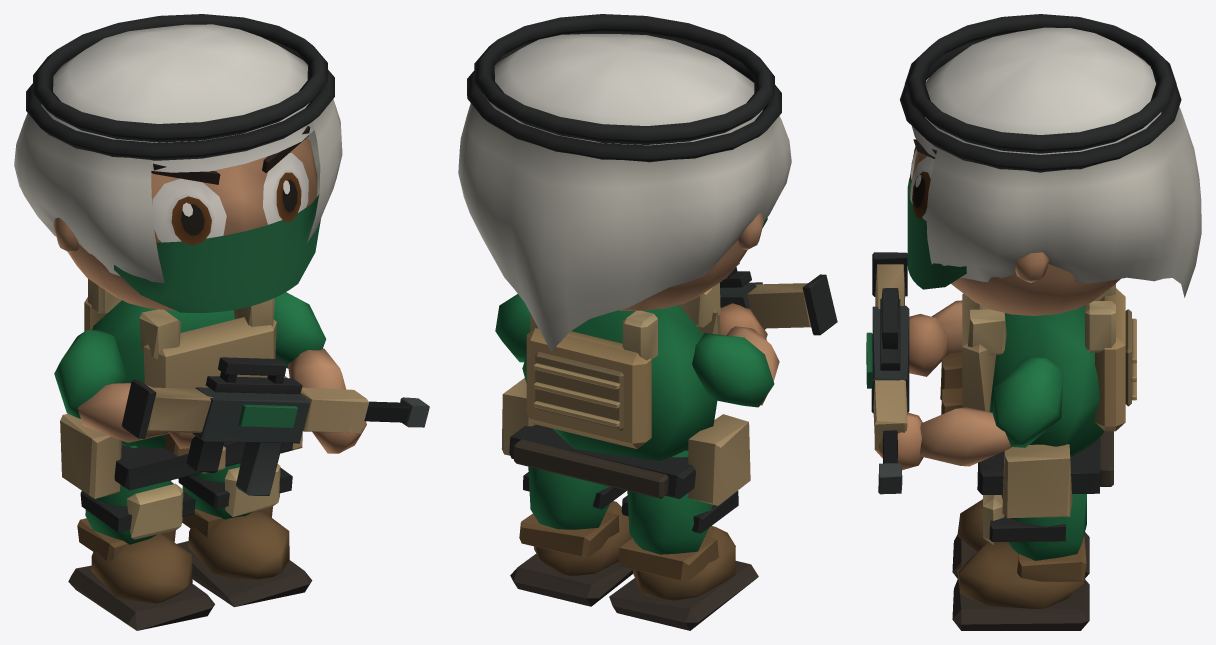
Rendered from recruit-quality-workshop.glb.
3 views of the same model, side by side, from view 1: azimuth 30°, elevation 25°; view 2: azimuth 150°, elevation 25°; view 3: azimuth 270°, elevation 25° (orthographic).
Parts seen in each view (by area): view 1: j1_body_ghutra_crown, j1_body_ghutra_folded_drape, j1_body_face_covering, j1_body_agal_upper, j1_body_agal_lower, j1_body_face, j0_body_plate_carrier, j3_body_boot, j2_body_boot, j5_rifle_receiver, j4_body_left_sleeve, j0_body_hip_pouch (+34 smaller); view 2: j1_body_ghutra_folded_drape, j1_body_ghutra_crown, j1_body_agal_upper, j0_body_uniform_torso, j0_body_rear_vest, j1_body_agal_lower, j4_body_left_sleeve, j0_body_hip_pouch, j2_body_trousers, j0_body_rear_belt, j2_body_boot_sole, j3_body_trousers (+23 smaller); view 3: j1_body_ghutra_folded_drape, j1_body_ghutra_crown, j1_body_agal_upper, j0_body_uniform_torso, j1_body_agal_lower, j0_body_hip_pouch.001, j5_body_right_sleeve, j1_body_face, j3_body_boot, j3_body_boot_sole, j5_body_right_forearm, j0_body_rear_vest (+27 smaller).
Boxes of the visible parts, x1,y1,x2,y2 form: j1_body_ghutra_crown: [41, 24, 314, 172]; j1_body_ghutra_folded_drape: [14, 99, 342, 282]; j1_body_face_covering: [114, 194, 320, 312]; j1_body_agal_upper: [33, 14, 327, 142]; j1_body_agal_lower: [26, 43, 334, 160]; j1_body_face: [68, 137, 317, 310]; j0_body_plate_carrier: [143, 317, 276, 388]; j3_body_boot: [188, 512, 289, 579]; j2_body_boot: [91, 534, 192, 603]; j5_rifle_receiver: [192, 387, 309, 443]; j4_body_left_sleeve: [54, 330, 127, 418]; j0_body_hip_pouch: [60, 414, 121, 498]; j1_body_ghutra_folded_drape: [458, 103, 791, 351]; j1_body_ghutra_crown: [483, 34, 762, 145]; j1_body_agal_upper: [474, 14, 774, 144]; j0_body_uniform_torso: [522, 305, 717, 460]; j0_body_rear_vest: [526, 328, 651, 448]; j1_body_agal_lower: [467, 33, 781, 162]; j4_body_left_sleeve: [692, 333, 774, 407]; j0_body_hip_pouch: [688, 414, 750, 505]; j2_body_trousers: [627, 450, 712, 554]; j0_body_rear_belt: [514, 439, 668, 498]; j2_body_boot_sole: [609, 561, 758, 630]; j3_body_trousers: [528, 428, 609, 529]; j1_body_ghutra_folded_drape: [926, 107, 1201, 297]; j1_body_ghutra_crown: [912, 27, 1161, 157]; j1_body_agal_upper: [905, 14, 1176, 153]; j0_body_uniform_torso: [990, 305, 1104, 457]; j1_body_agal_lower: [900, 39, 1181, 172]; j0_body_hip_pouch.001: [1002, 444, 1072, 518]; j5_body_right_sleeve: [992, 356, 1063, 447]; j1_body_face: [909, 151, 1120, 315]; j3_body_boot: [957, 542, 1083, 608]; j3_body_boot_sole: [952, 578, 1089, 630]; j5_body_right_forearm: [920, 407, 1011, 466]; j0_body_rear_vest: [1095, 288, 1125, 431].
Size of the model in its own units: 0.8712 by 1.45 by 0.8193.
